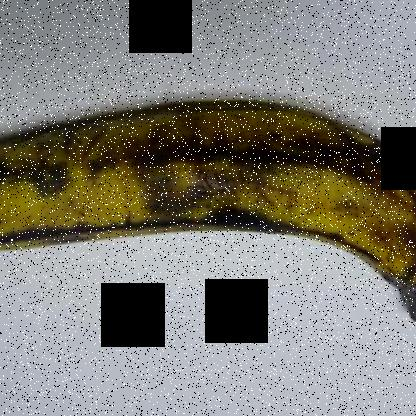overripe: (1, 76, 415, 345)
rotten: (135, 133, 291, 254)
